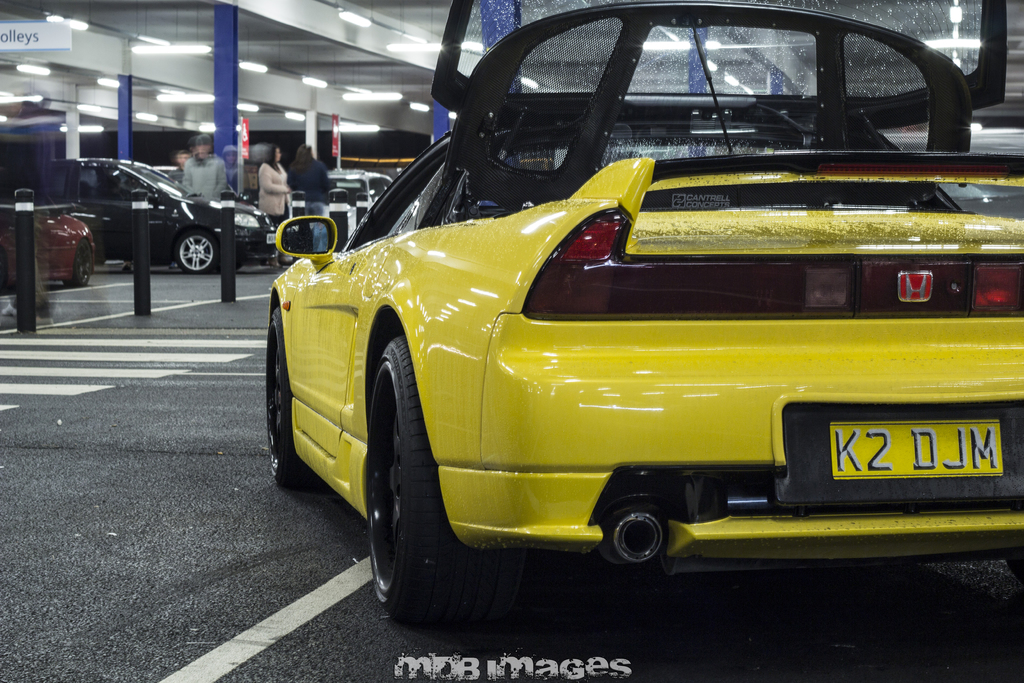Car: (266, 8, 1001, 641), (15, 155, 267, 269)
